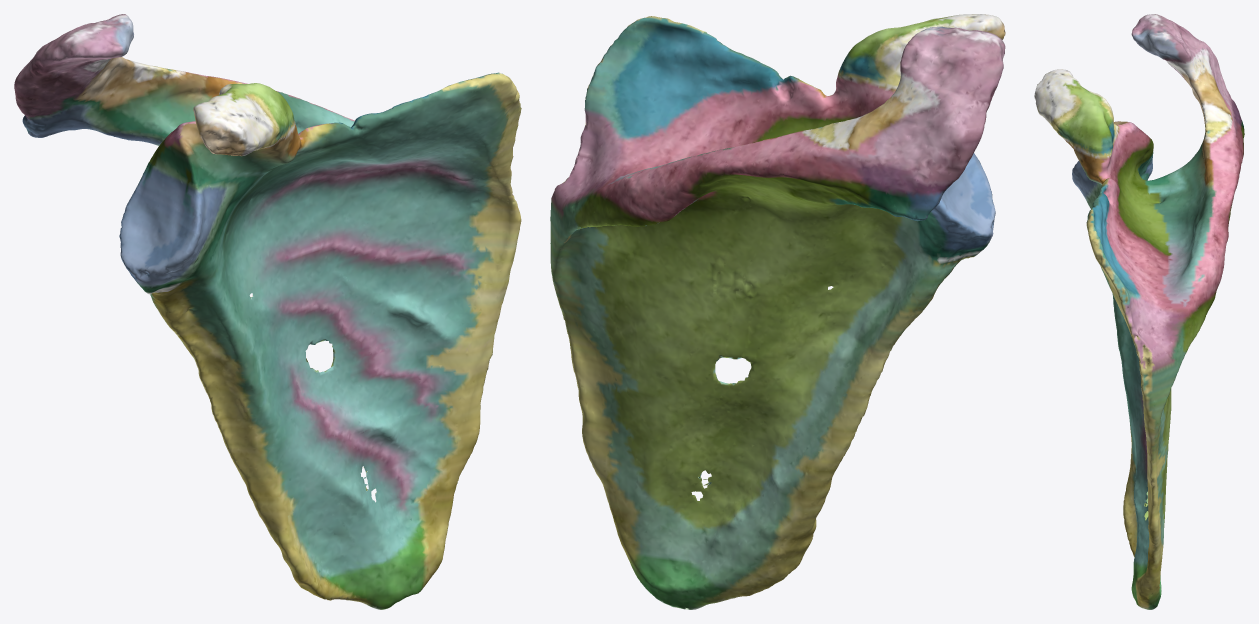
File: lopatka.glb
3 views of the same model, side by side, from view 1: azimuth 30°, elevation 25°; view 2: azimuth 150°, elevation 25°; view 3: azimuth 270°, elevation 25° (orthographic). The views are drawn at different scales.
Size of the model in its own units: 0.1229 by 0.163 by 0.0648.
